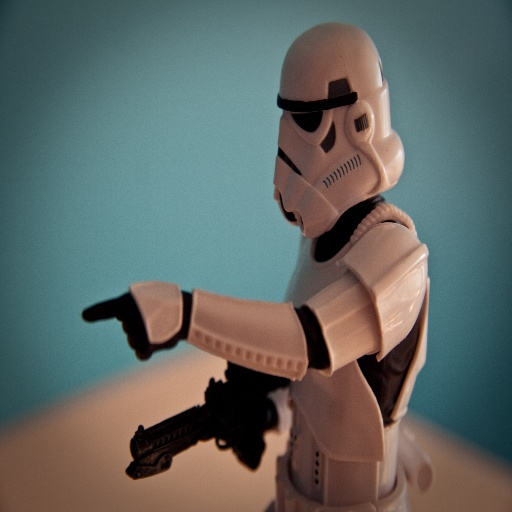hand: (96, 284, 199, 366)
